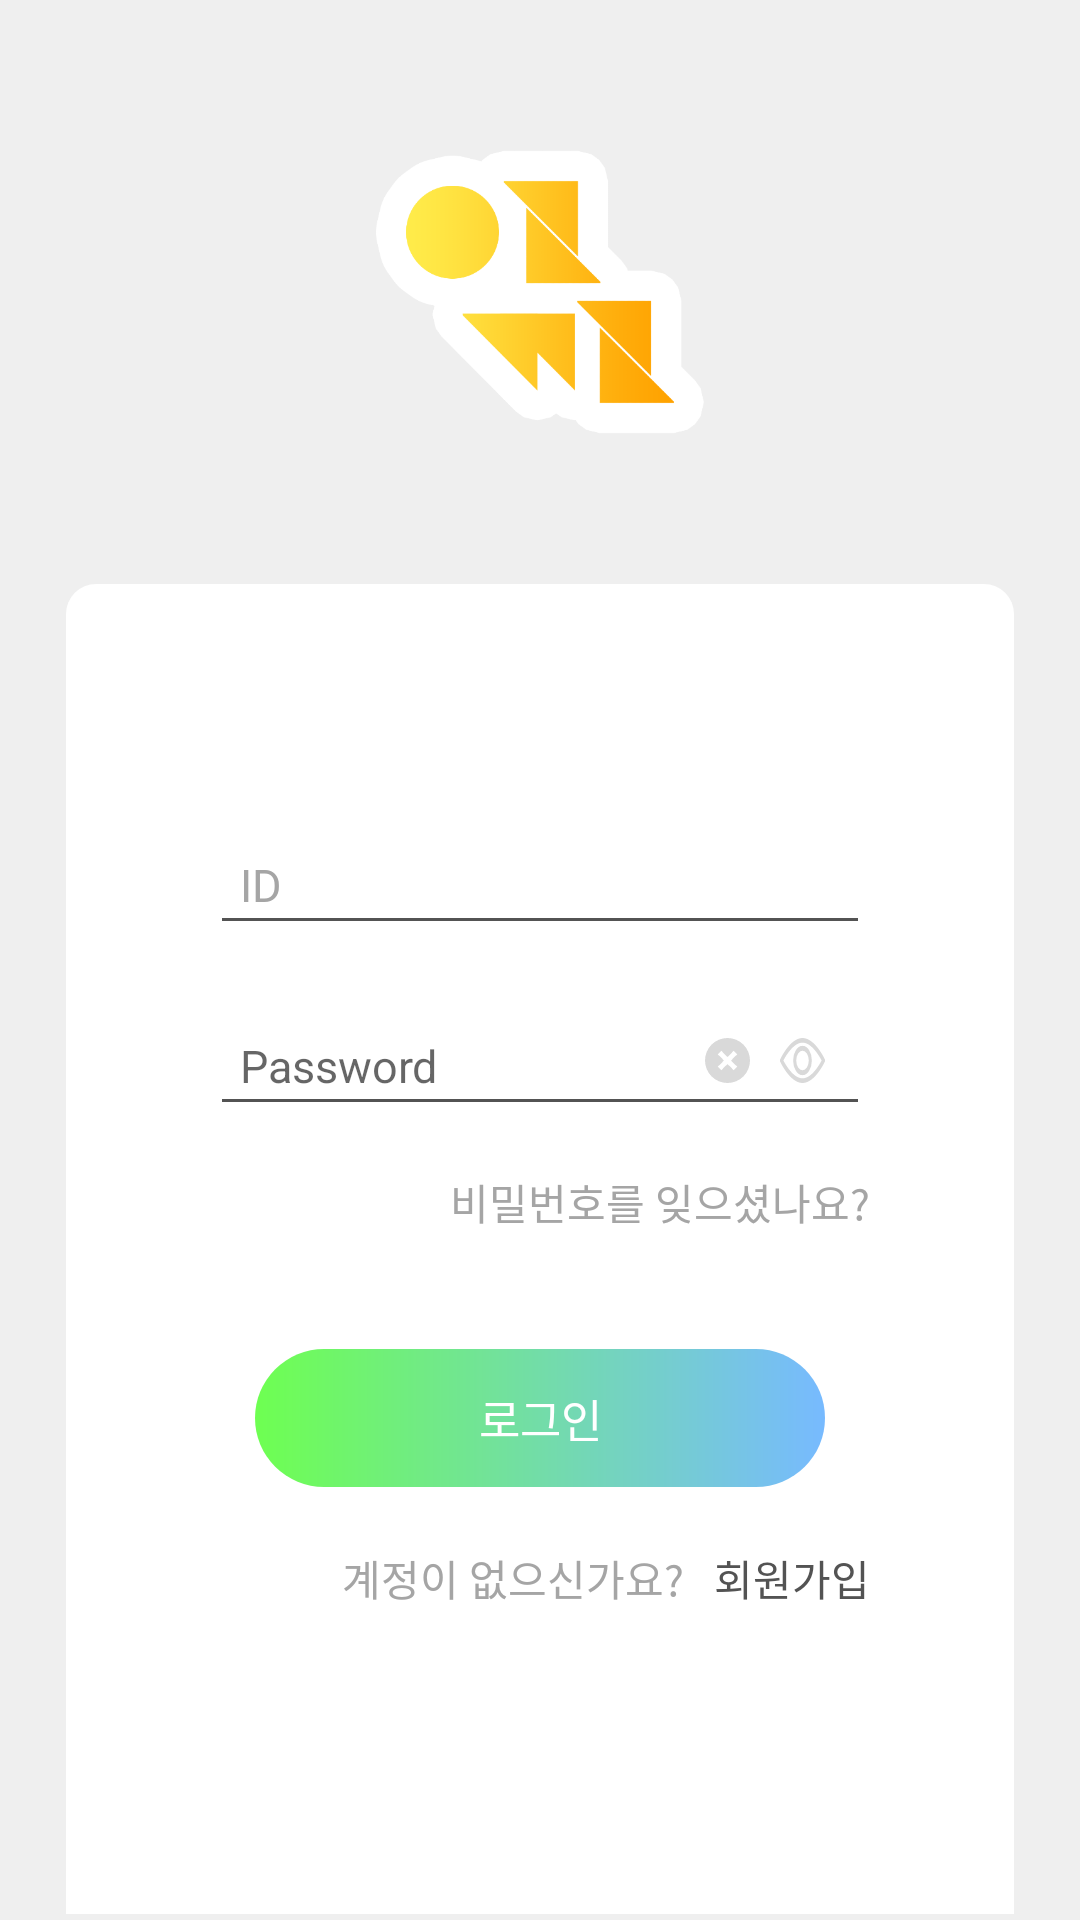

Where icons sit on this 1080 × 1920 app screen, as {"left": x1, "top": y1, "right": x2, "bottom": y2}:
clear: {"left": 705, "top": 1038, "right": 750, "bottom": 1083}
